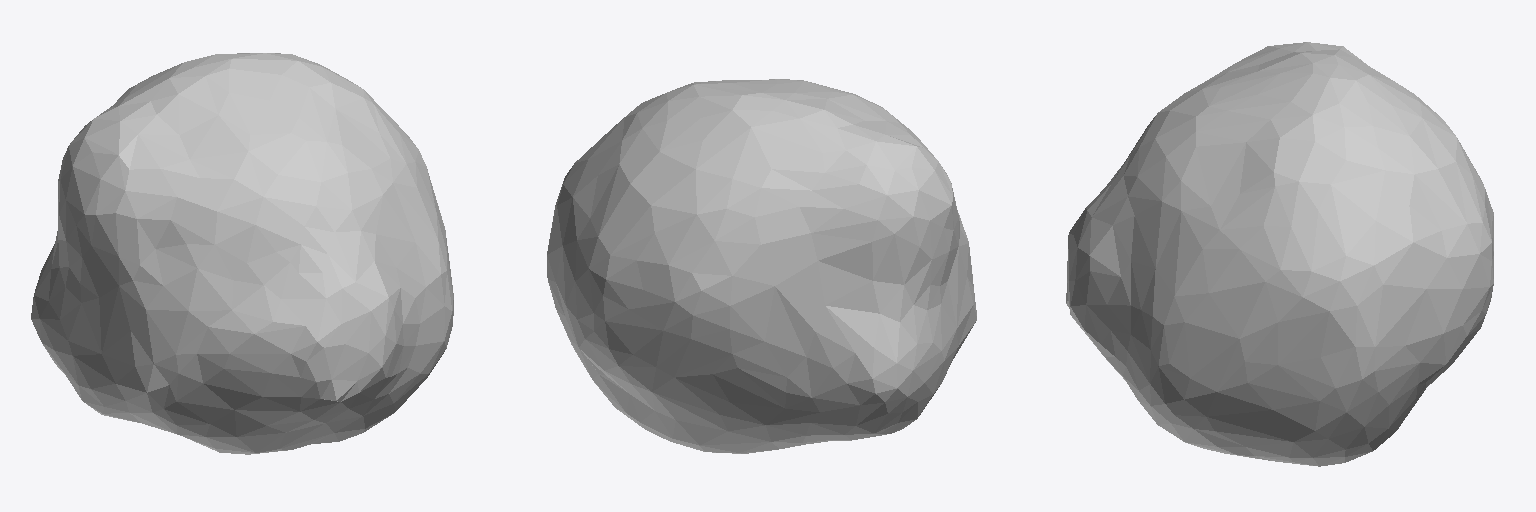
File: tumor2.obj
3 views of the same model, side by side, from view 1: azimuth 30°, elevation 25°; view 2: azimuth 150°, elevation 25°; view 3: azimuth 270°, elevation 25° (orthographic).
Bounding box in the file's own units: 29.49 × 27.88 × 30.26.